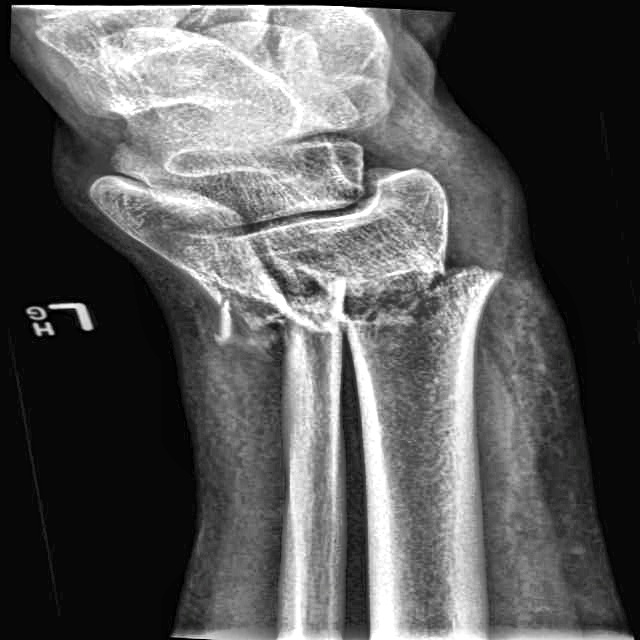Comminuted: (324, 244, 507, 347), (200, 276, 357, 359)
